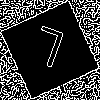L: (25, 25, 67, 78)
